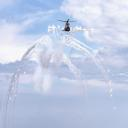helicopter: (58, 17, 79, 34)
